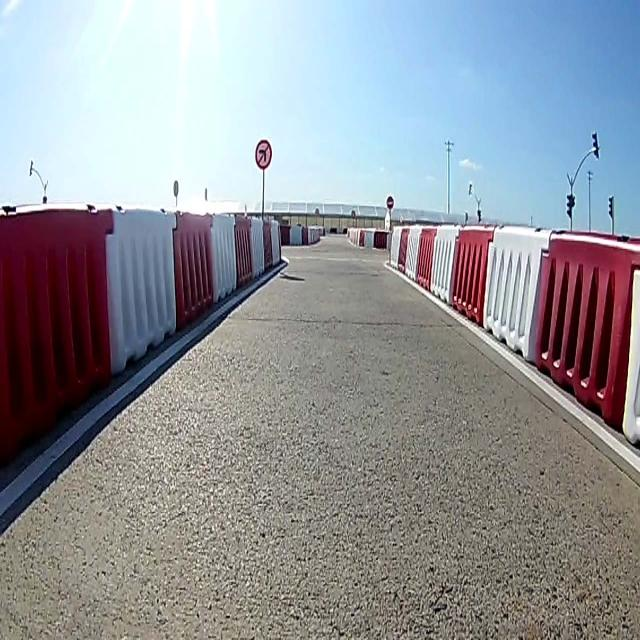girisyok: (386, 195, 394, 209)
soladonulmez: (254, 137, 276, 172)
